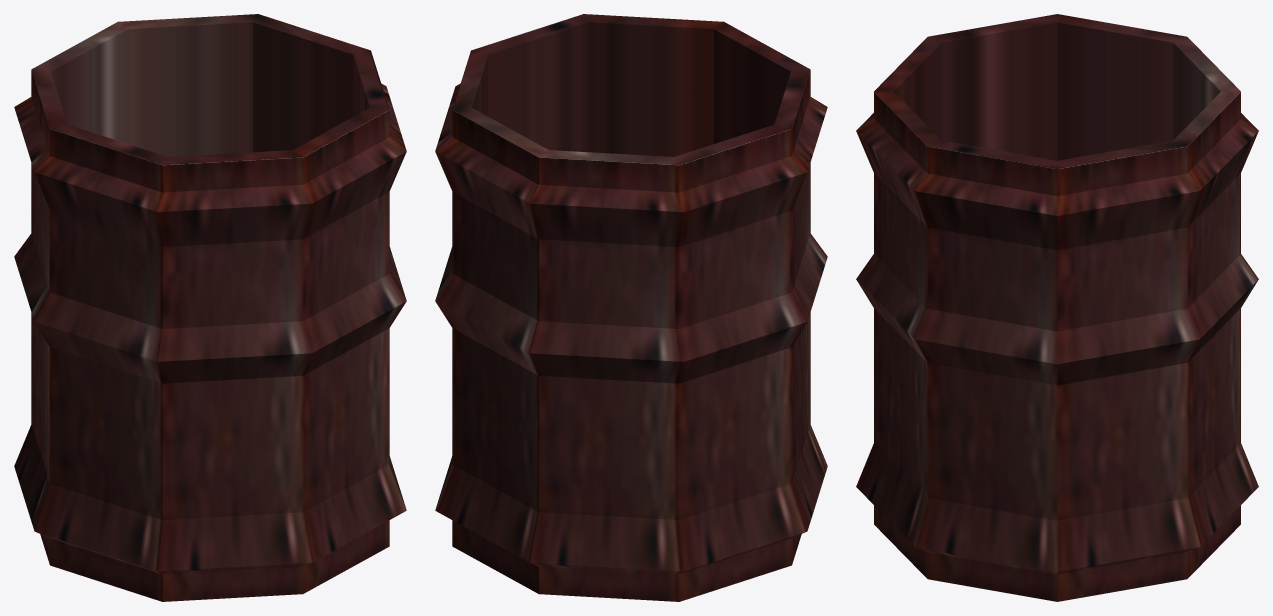
The model's file is cylinder_trash.fbx.
The picture shows the model from 3 angles, left to right: view 1: azimuth 30°, elevation 25°; view 2: azimuth 150°, elevation 25°; view 3: azimuth 270°, elevation 25°; orthographic projection.
Parts seen in each view (by area): view 1: Cylinder; view 2: Cylinder; view 3: Cylinder.
Boxes of the visible parts, x1,y1,x2,y2 form: Cylinder: [14, 14, 406, 601]; Cylinder: [435, 14, 827, 601]; Cylinder: [856, 14, 1258, 601].
Size of the model in its own units: 219 by 260 by 219.
Materials: 1 (1 with a texture image).
